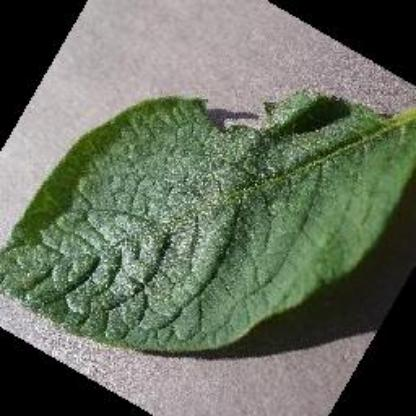Healthy-plant: (2, 90, 416, 354)
